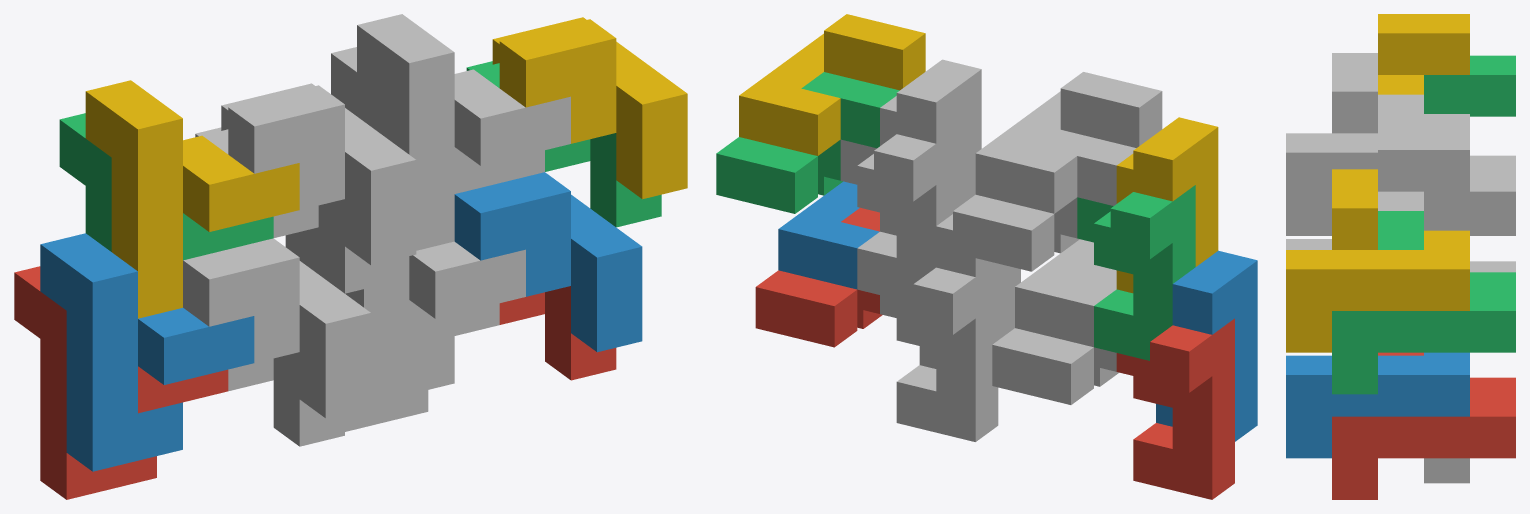
The model's file is tiling.obj.
3 views of the same model, side by side, from view 1: azimuth 30°, elevation 25°; view 2: azimuth 150°, elevation 25°; view 3: azimuth 270°, elevation 25° (orthographic). The views are drawn at different scales.
Parts seen in each view (by area): view 1: copy_1_domain_2, copy_1_domain_4, copy_1_domain_8, copy_2_domain_4, copy_2_domain_8, copy_2_domain_6, copy_2_domain_2, copy_1_domain_6, copy_1_domain_1, copy_1_domain_3, copy_1_domain_5, copy_1_domain_7 (+4 smaller); view 2: copy_1_domain_1, copy_1_domain_5, copy_2_domain_4, copy_2_domain_8, copy_1_domain_7, copy_1_domain_3, copy_2_domain_3, copy_2_domain_7, copy_1_domain_2, copy_1_domain_4, copy_1_domain_8, copy_2_domain_5 (+4 smaller); view 3: copy_2_domain_8, copy_2_domain_7, copy_2_domain_5, copy_2_domain_6, copy_2_domain_4, copy_1_domain_8, copy_1_domain_4, copy_1_domain_7, copy_1_domain_3, copy_2_domain_3, copy_1_domain_5, copy_2_domain_1 (+1 smaller).
Part boxes in pixels (x1,y1,x2,y2): copy_1_domain_2: (40, 233, 254, 471); copy_1_domain_4: (85, 80, 299, 318); copy_1_domain_8: (357, 14, 570, 250); copy_2_domain_4: (221, 83, 416, 265); copy_2_domain_8: (492, 17, 687, 199); copy_2_domain_6: (454, 172, 642, 352); copy_2_domain_2: (183, 238, 370, 418); copy_1_domain_6: (316, 227, 525, 403); copy_1_domain_1: (14, 266, 228, 499); copy_1_domain_3: (59, 113, 273, 260); copy_1_domain_5: (285, 228, 499, 431); copy_1_domain_7: (331, 47, 544, 193); copy_1_domain_1: (1116, 318, 1234, 499); copy_1_domain_5: (880, 263, 998, 441); copy_2_domain_4: (975, 72, 1162, 213); copy_2_domain_8: (739, 14, 925, 155); copy_1_domain_7: (840, 127, 958, 302); copy_1_domain_3: (1077, 185, 1195, 360); copy_2_domain_3: (953, 129, 1136, 271); copy_2_domain_7: (716, 72, 899, 213); copy_1_domain_2: (1156, 250, 1257, 441); copy_1_domain_4: (1116, 117, 1218, 293); copy_1_domain_8: (880, 59, 981, 235); copy_2_domain_5: (755, 207, 882, 347); copy_2_domain_8: (1286, 169, 1469, 352); copy_2_domain_7: (1332, 211, 1515, 394); copy_2_domain_5: (1332, 352, 1515, 499); copy_2_domain_6: (1286, 352, 1469, 458); copy_2_domain_4: (1286, 53, 1469, 235); copy_1_domain_8: (1378, 130, 1469, 210); copy_1_domain_4: (1378, 14, 1469, 94); copy_1_domain_7: (1424, 172, 1515, 233); copy_1_domain_3: (1424, 55, 1515, 116); copy_2_domain_3: (1378, 94, 1515, 235); copy_1_domain_5: (1424, 458, 1469, 483); copy_2_domain_1: (1470, 261, 1515, 272).
Size of the model in its own units: 12 by 8 by 5.
